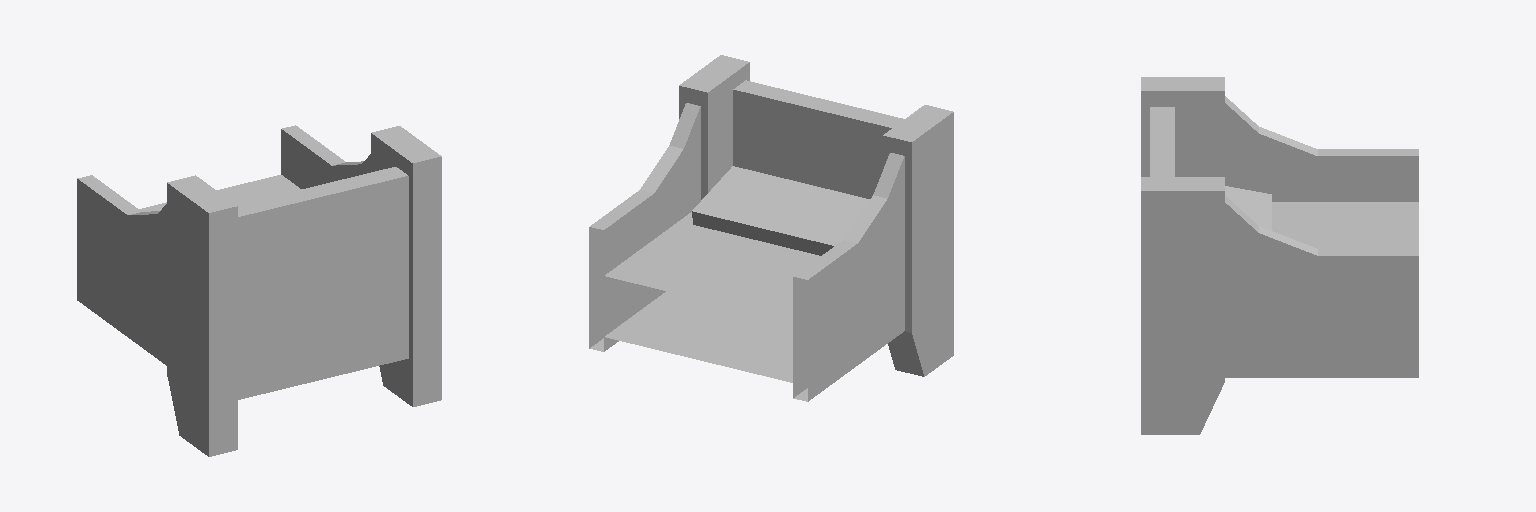
File: fancy_nordic_bed_head.obj
The picture shows the model from 3 angles: view 1: azimuth 30°, elevation 25°; view 2: azimuth 150°, elevation 25°; view 3: azimuth 270°, elevation 25°; orthographic projection.
Parts seen in each view (by area): view 1: head_board, head_leg_left, head_side_right, head_leg_right, head_side_left, bed_head; view 2: bed_head, head_side_right, head_leg_left, head_board, head_side_left, pillow, head_leg_right; view 3: head_side_left, head_leg_right, head_side_right, head_leg_left, bed_head, head_board, pillow.
Boxes of the visible parts, x1,y1,x2,y2 form: head_board: [237, 167, 408, 399]; head_leg_left: [167, 175, 237, 456]; head_side_right: [77, 175, 166, 365]; head_leg_right: [371, 126, 441, 406]; head_side_left: [281, 125, 370, 188]; bed_head: [139, 175, 300, 211]; bed_head: [605, 212, 820, 382]; head_side_right: [793, 153, 904, 401]; head_leg_left: [883, 105, 953, 376]; head_board: [733, 80, 903, 198]; head_side_left: [589, 103, 700, 351]; pillow: [692, 166, 869, 255]; head_leg_right: [679, 55, 749, 199]; head_side_left: [1225, 196, 1418, 377]; head_leg_right: [1141, 177, 1224, 434]; head_side_right: [1225, 96, 1418, 201]; head_leg_left: [1141, 77, 1224, 176]; bed_head: [1272, 202, 1418, 248]; head_board: [1150, 107, 1174, 176]; pillow: [1225, 186, 1271, 230].
Size of the model in its own units: 1 by 1 by 1.03.